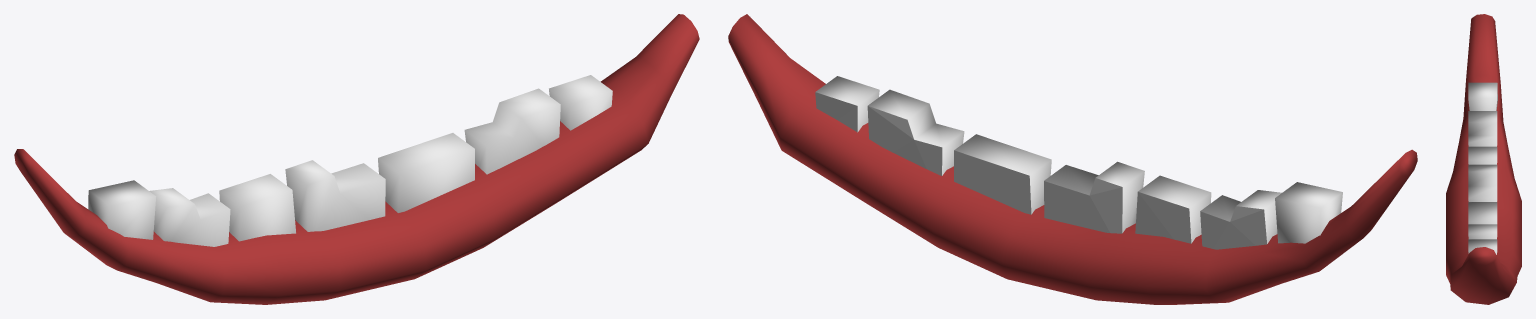
Rendered from AilJaw.fbx.
3 renders of one model, left to right at view 1: azimuth 30°, elevation 25°; view 2: azimuth 150°, elevation 25°; view 3: azimuth 270°, elevation 25°, orthographic. The views are drawn at different scales.
Visible parts, largest first — view 1: AilJaw; view 2: AilJaw; view 3: AilJaw.
Part boxes in pixels (x1,y1,x2,y2): AilJaw: [14, 14, 699, 304]; AilJaw: [728, 14, 1417, 304]; AilJaw: [1446, 14, 1521, 304].
Bounding box in the file's own units: 46 × 14.08 × 6.76.
